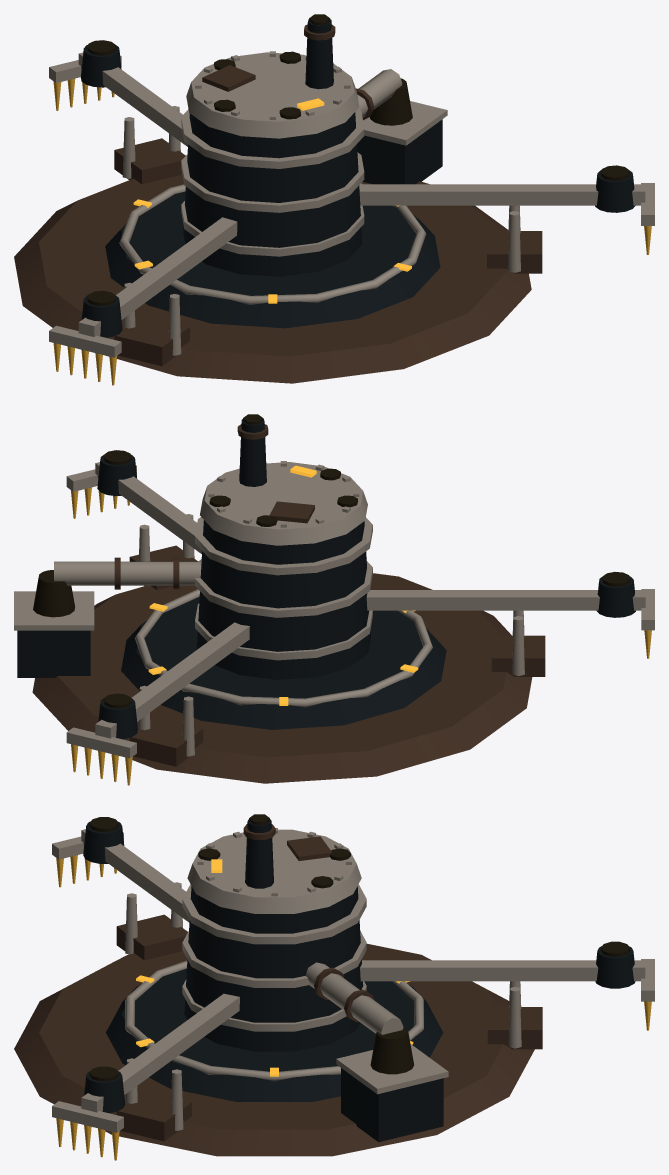
Rendered from bio-reactor-bathyarch.glb.
The picture shows the model from 3 angles, top to bottom: view 1: azimuth 30°, elevation 25°; view 2: azimuth 150°, elevation 25°; view 3: azimuth 270°, elevation 25°; orthographic projection. The views are drawn at different scales.
Parts seen in each view (by area): view 1: holdfast_mat, footprint_slab, reactor_vessel, intake_boom (×3), vessel_crown, anchor_foot (×3), outflow_hopper, slab_kerb, throat_drum (×3), vessel_band_2, vessel_band_1, rake_beam (×2) (+8 smaller); view 2: holdfast_mat, footprint_slab, reactor_vessel, intake_boom (×3), vessel_crown, anchor_foot (×3), slab_kerb, outflow_hopper, outflow_trunk, throat_drum (×3), vessel_band_2, hopper_lip (+8 smaller); view 3: holdfast_mat, reactor_vessel, footprint_slab, intake_boom (×3), vessel_crown, anchor_foot (×3), outflow_hopper, throat_drum (×3), slab_kerb, vessel_band_2, hopper_lip, outflow_trunk (+8 smaller).
Part boxes in pixels (x1,y1,x2,y2): holdfast_mat: (14,174,531,383); footprint_slab: (105,191,440,328); reactor_vessel: (183,112,362,276); intake_boom (×3): (78,52,645,336); vessel_crown: (186,52,359,138); anchor_foot (×3): (114,138,542,366); outflow_hopper: (357,119,442,184); slab_kerb: (119,183,426,304); throat_drum (×3): (80,45,635,337); vessel_band_2: (181,109,364,168); vessel_band_1: (181,152,364,212); rake_beam (×2): (49,55,121,357); holdfast_mat: (32,573,532,783); footprint_slab: (121,596,446,729); reactor_vessel: (197,520,370,679); intake_boom (×3): (95,462,645,738); vessel_crown: (200,462,367,545); anchor_foot (×3): (129,545,545,766); slab_kerb: (134,589,432,707); outflow_hopper: (17,630,90,677); outflow_trunk: (54,561,201,585); throat_drum (×3): (97,454,635,738); vessel_band_2: (195,517,372,575); hopper_lip: (14,591,94,630); holdfast_mat: (14,943,534,1156); reactor_vessel: (184,886,363,1051); footprint_slab: (106,968,443,1101); intake_boom (×3): (81,829,645,1112); vessel_crown: (187,829,361,913); anchor_foot (×3): (116,914,542,1141); outflow_hopper: (341,1068,443,1142); throat_drum (×3): (83,821,635,1113); slab_kerb: (125,960,423,1081); vessel_band_2: (182,884,366,944); hopper_lip: (336,1044,448,1094); outflow_trunk: (305,962,403,1034).
Size of the model in its own units: 180 by 71.24 by 166.
